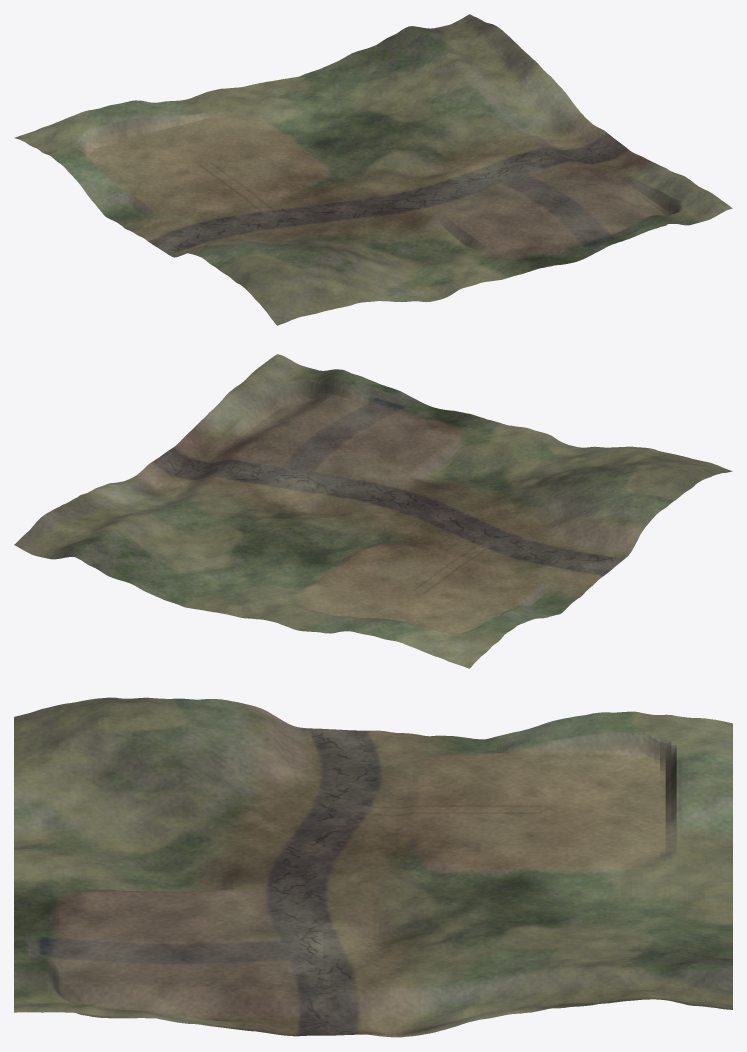
Rendered from Outpost60_Dustline_Terrain_64m_YUp.glb.
3 renders of one model, top to bottom at view 1: azimuth 30°, elevation 25°; view 2: azimuth 150°, elevation 25°; view 3: azimuth 270°, elevation 25°, orthographic. The views are drawn at different scales.
Visible parts, largest first — view 1: Dustline_Terrain_64x64_YUp; view 2: Dustline_Terrain_64x64_YUp; view 3: Dustline_Terrain_64x64_YUp.
Boxes of the visible parts, x1,y1,x2,y2 form: Dustline_Terrain_64x64_YUp: (14,14,732,325); Dustline_Terrain_64x64_YUp: (14,354,732,668); Dustline_Terrain_64x64_YUp: (14,697,732,1037).
Bounding box in the file's own units: 64 × 5.45 × 64.
Materials: 1 (1 with a texture image).
